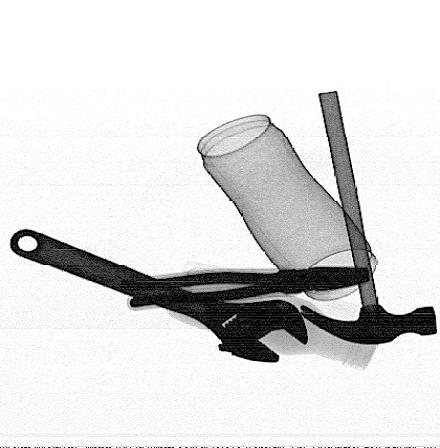Hammer: (298, 90, 438, 344)
Pliers: (119, 266, 367, 308)
Wrench: (10, 226, 310, 361)
